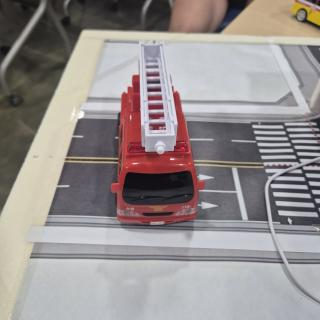Fire_truck: (111, 42, 205, 225)
